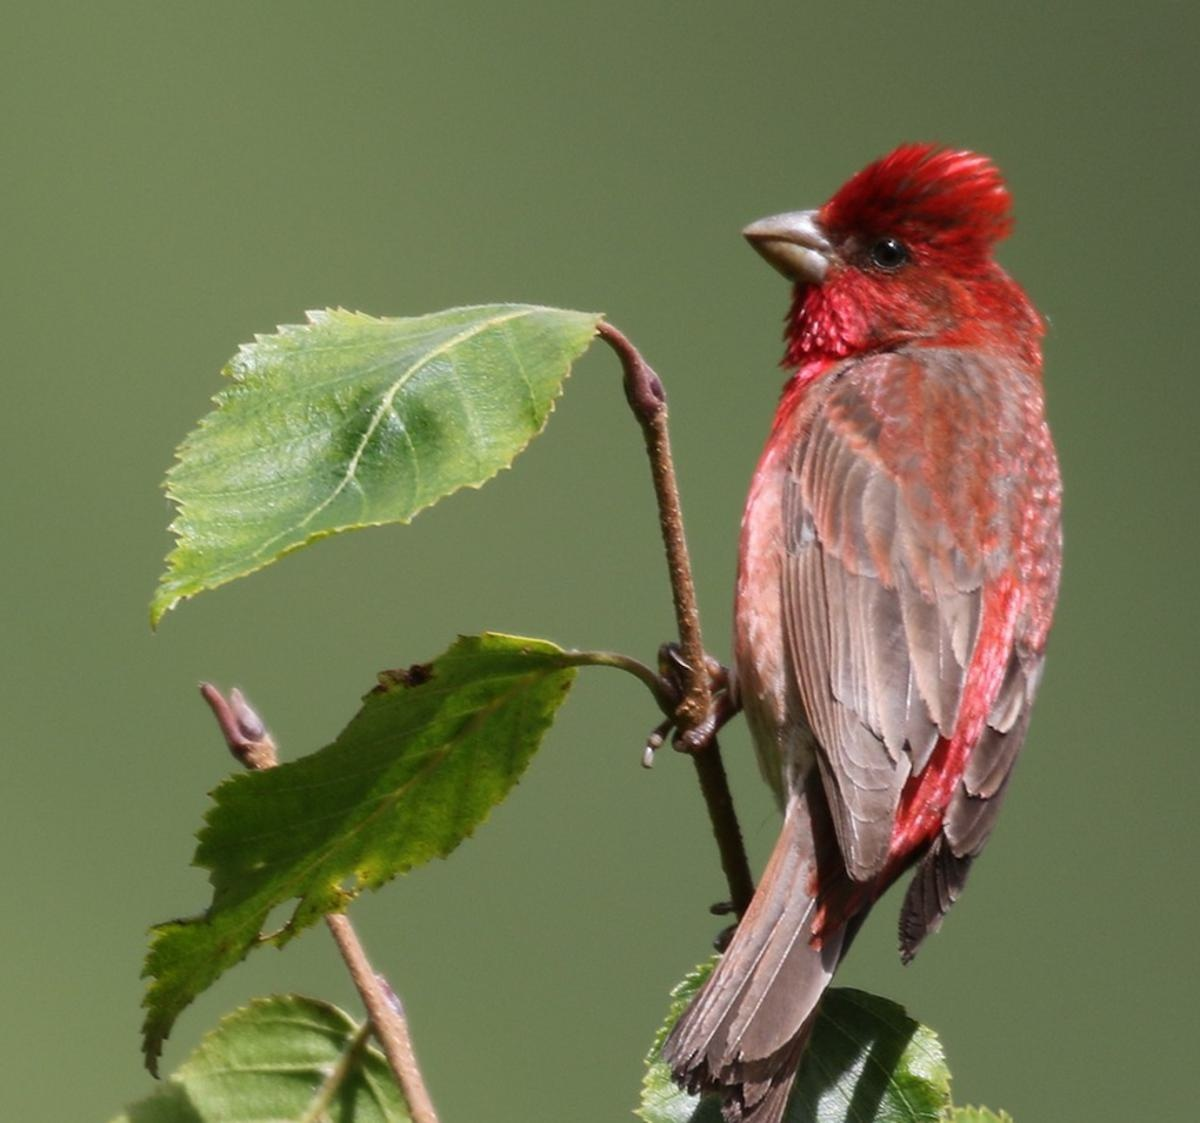rosefinch: (720, 136, 1052, 1019)
